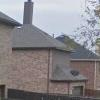Chimney: (19, 2, 38, 29)
